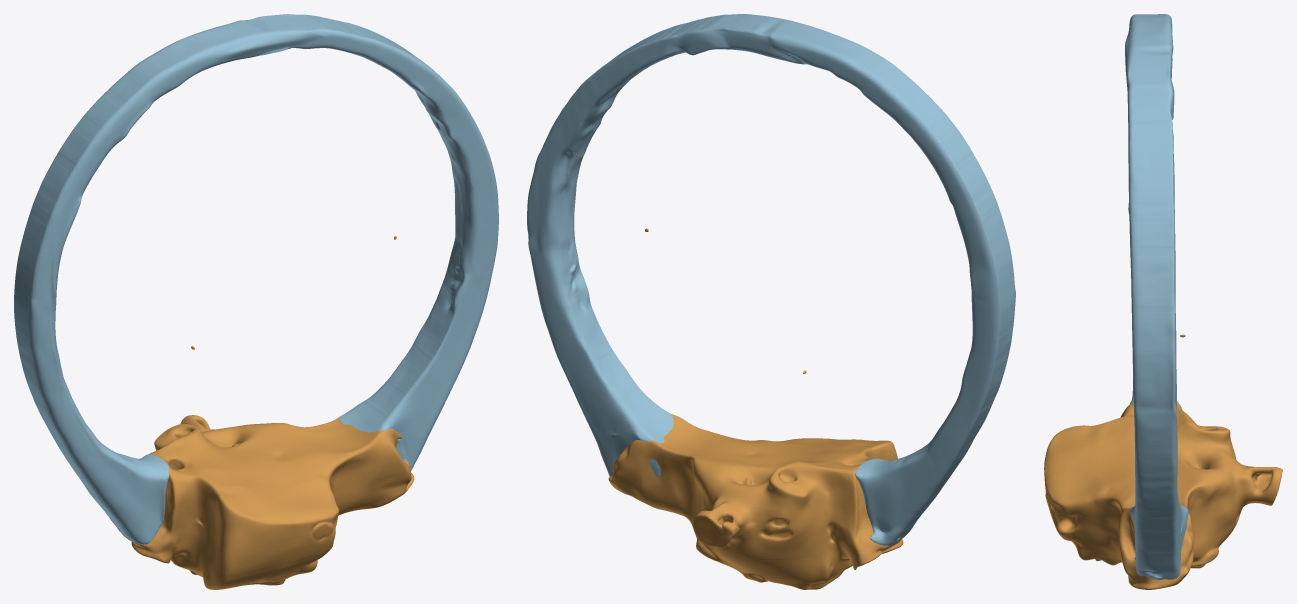
3 views of the same model, side by side, from view 1: azimuth 30°, elevation 25°; view 2: azimuth 150°, elevation 25°; view 3: azimuth 270°, elevation 25° (orthographic). The views are drawn at different scales.
Visible parts, largest first — view 1: world; view 2: world; view 3: world.
Part boxes in pixels (x1,y1,x2,y2): world: (14, 14, 498, 589); world: (527, 14, 1015, 589); world: (1044, 14, 1282, 589).
Bounding box in the file's own units: 1.81 × 1.98 × 0.829.
